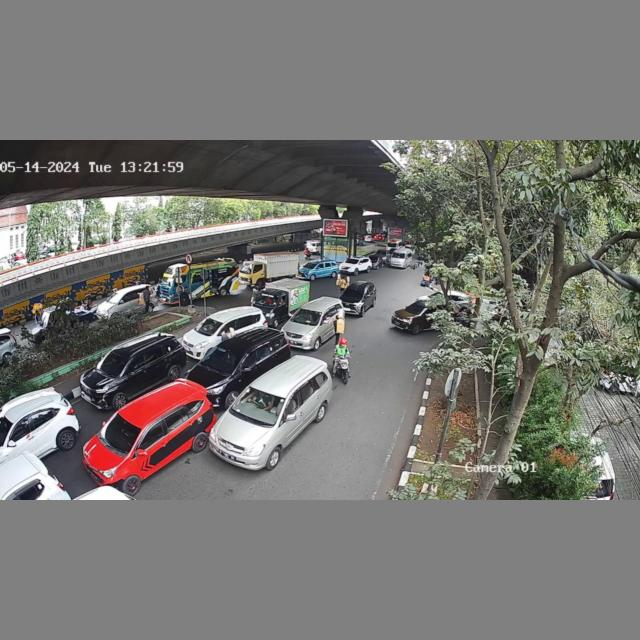windshield: (236, 387, 287, 427), (101, 414, 143, 457), (199, 342, 243, 376), (96, 348, 128, 380), (292, 308, 323, 328), (193, 317, 221, 334), (254, 292, 278, 309)
